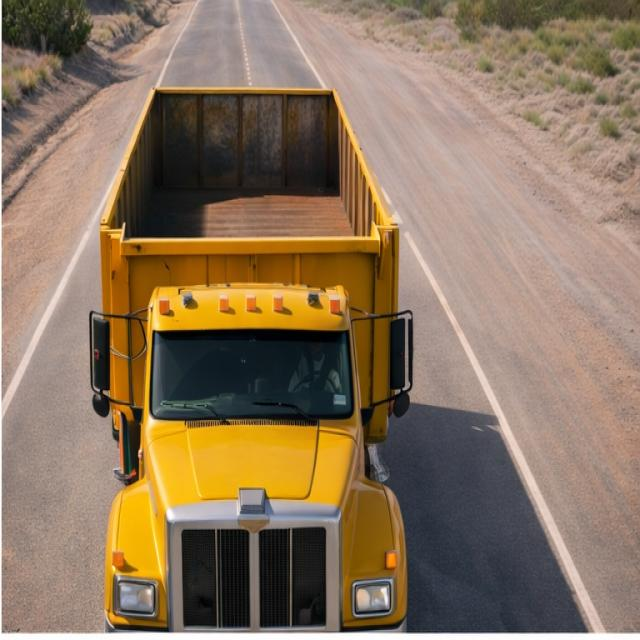trailer: (92, 78, 409, 298)
truck: (33, 64, 439, 628)
